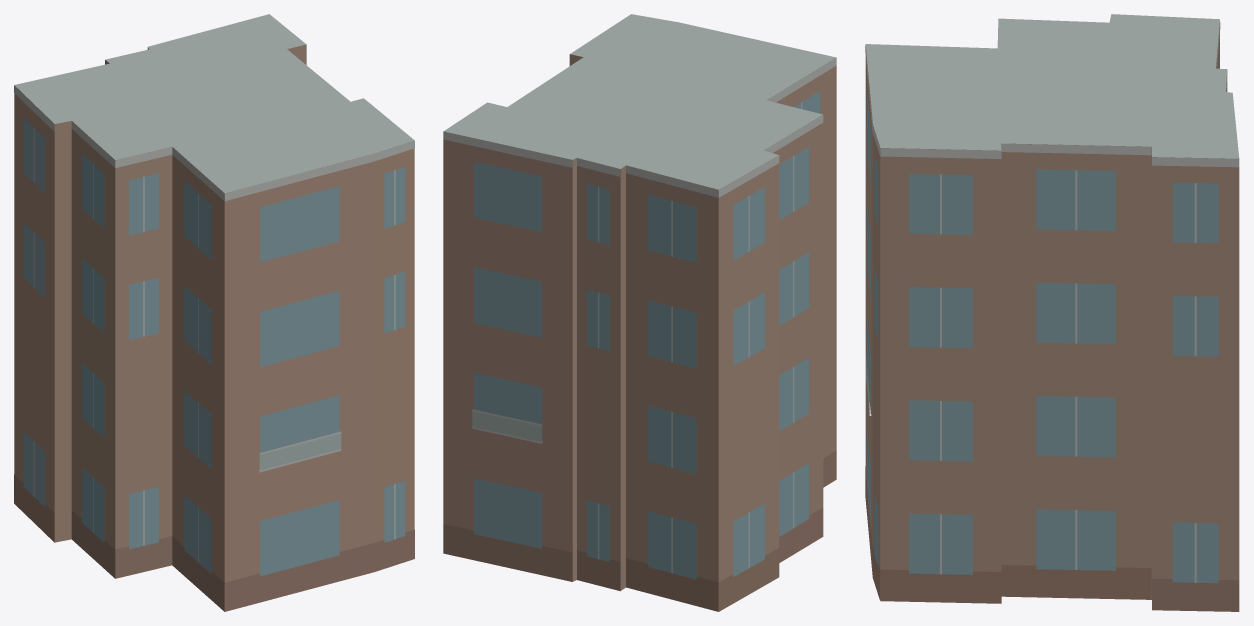
File: survey-upis-32472342.glb
3 views of the same model, side by side, from view 1: azimuth 30°, elevation 25°; view 2: azimuth 150°, elevation 25°; view 3: azimuth 270°, elevation 25° (orthographic). The views are drawn at different scales.
Visible parts, largest first — view 1: survey-upis-32472342.tmp; view 2: survey-upis-32472342.tmp; view 3: survey-upis-32472342.tmp.
Part boxes in pixels (x1,y1,x2,y2): survey-upis-32472342.tmp: (14,14,414,611); survey-upis-32472342.tmp: (443,14,836,611); survey-upis-32472342.tmp: (865,14,1239,611).
Bounding box in the file's own units: 8.84 × 12.9 × 9.65.
